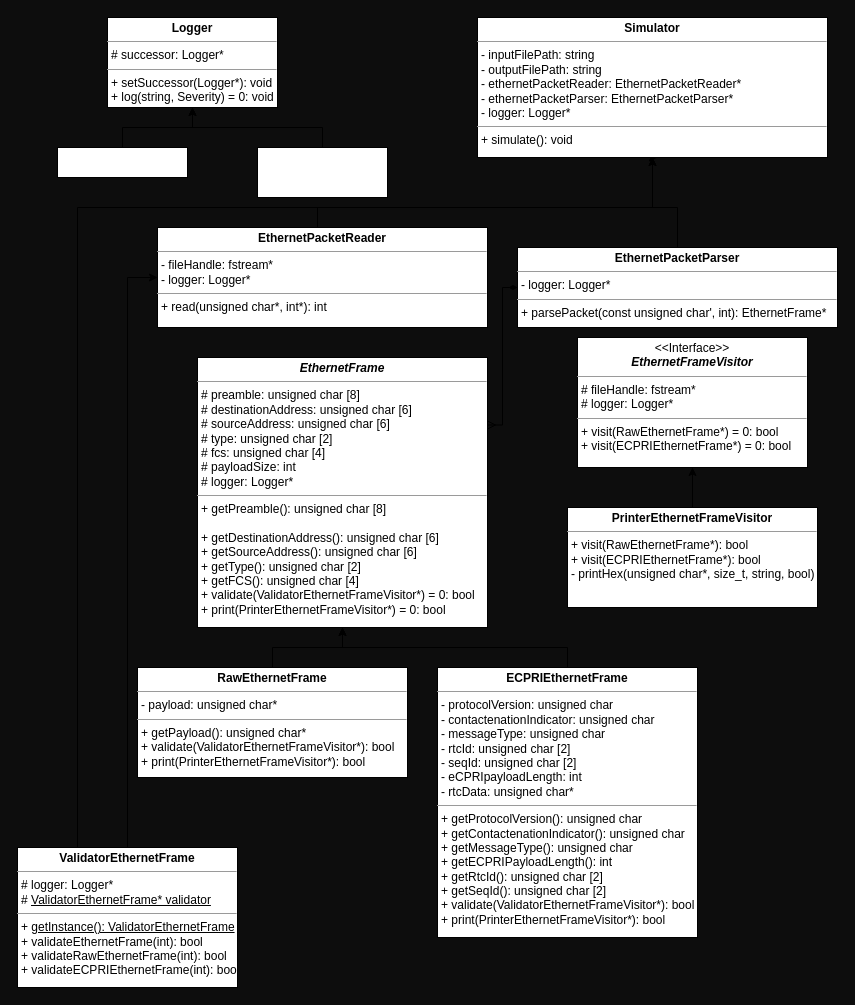
This 855x1005 diagram has some shape labels left out. The shapes that lost their labels are listed below. From the top down, each one's centre as x and y in pixels, then its label:
At [122,162]: "ConsoleLogger".
At [322,172]: "FileLogger - filename: string".
